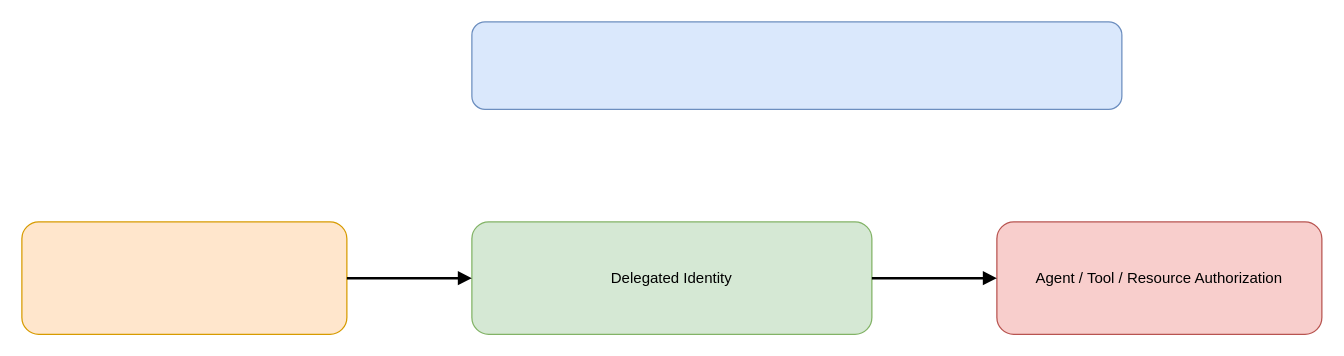
Image size: 1344x356. Some labels were removed from this diagram. The shapes that lost their labels are listed below. From the top down, each one's centre as x and y in pixels, then its label:
point (796, 65): Security Flow
point (184, 277): User Authentication
